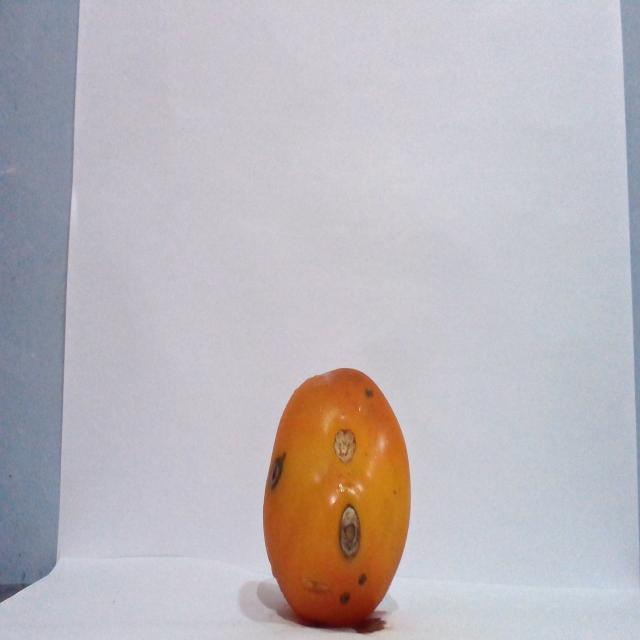Red: (261, 366, 411, 627)
